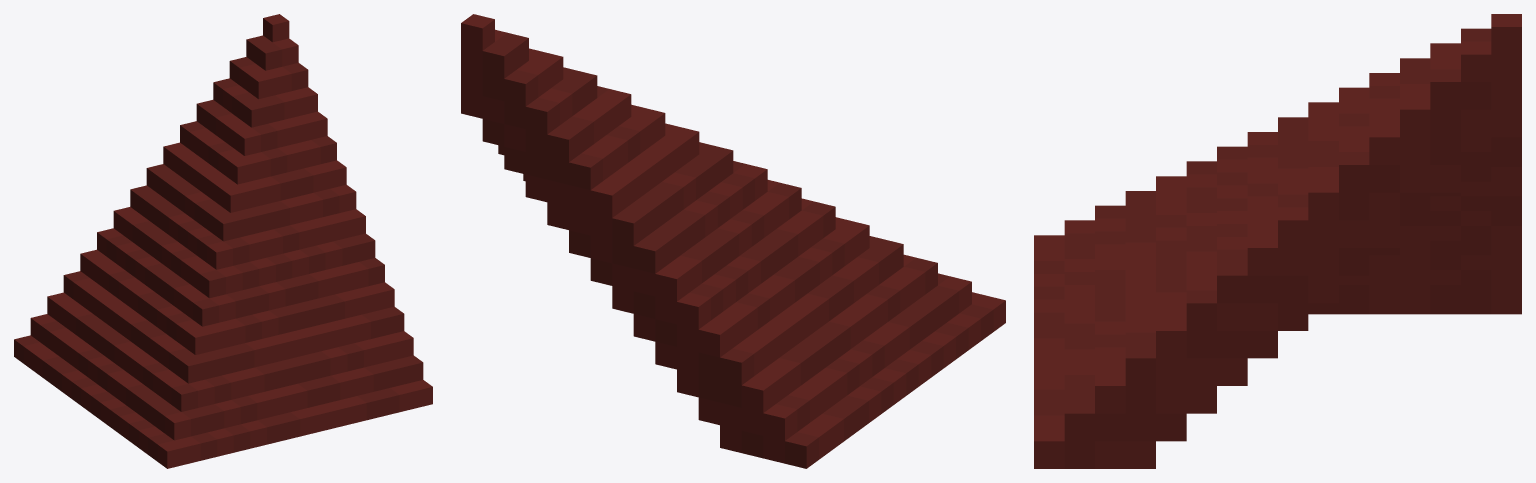
File: tavern-28-roof_redcorner.obj
3 renders of one model, left to right at view 1: azimuth 30°, elevation 25°; view 2: azimuth 150°, elevation 25°; view 3: azimuth 270°, elevation 25°, orthographic. The views are drawn at different scales.
Parts seen in each view (by area): view 1: roof_redcorner; view 2: roof_redcorner; view 3: roof_redcorner.
Part boxes in pixels (x1,y1,x2,y2): roof_redcorner: (14,14,432,468); roof_redcorner: (461,14,1005,468); roof_redcorner: (1034,14,1521,468).
Size of the model in its own units: 1.6 by 1.6 by 1.6.
Materials: 1 (1 with a texture image).
